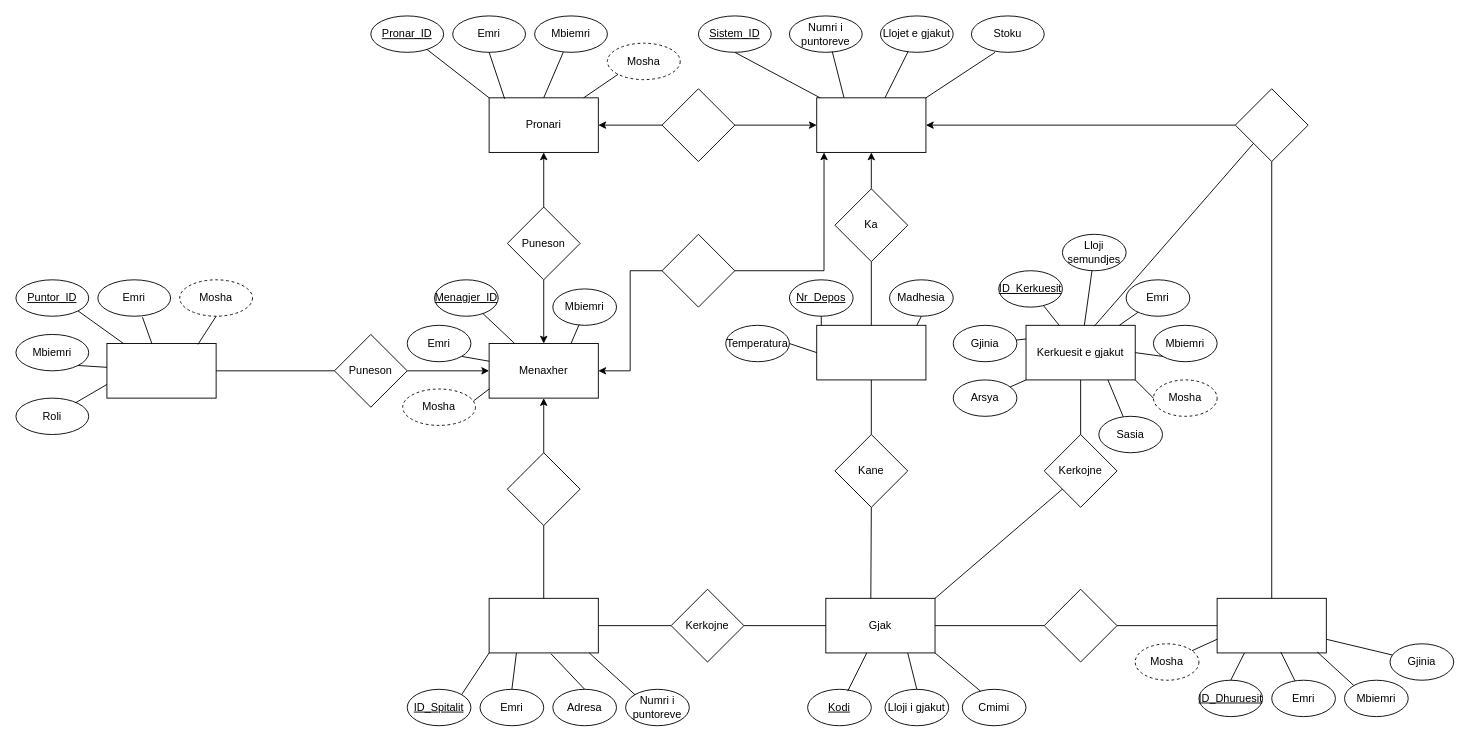
This 1470x742 diagram has some shape labels left out. Each missing label, with the box of its shape:
Depo: (816, 324, 926, 380)
Dhurojne: (1043, 588, 1117, 662)
Donatoret: (1216, 597, 1326, 653)
Kontakton: (506, 452, 580, 526)
Menaxhon: (661, 233, 735, 307)
Puntoret: (106, 343, 216, 398)
Regjistrohen: (1234, 88, 1308, 162)
Sistem per menagjimin e donacioneve/marrjes se gjakut: (816, 97, 926, 152)
Spitalet: (488, 597, 598, 653)
Zotëron: (661, 88, 735, 162)
